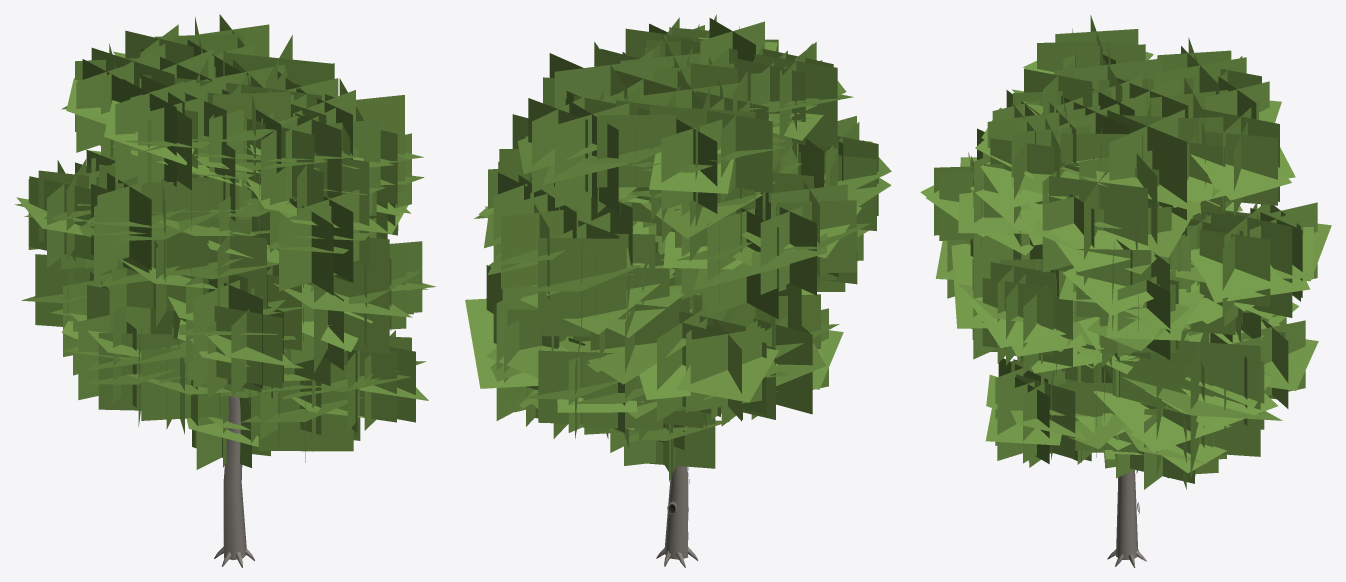
The model's file is tilleul_1_f3_jeu.glb.
3 views of the same model, side by side, from view 1: azimuth 30°, elevation 25°; view 2: azimuth 150°, elevation 25°; view 3: azimuth 270°, elevation 25° (orthographic). The views are drawn at different scales.
Parts seen in each view (by area): view 1: Tilleul_T1_f3_Leger; view 2: Tilleul_T1_f3_Leger; view 3: Tilleul_T1_f3_Leger.
Part boxes in pixels (x1=…): Tilleul_T1_f3_Leger: x1=15, y1=14, x2=436, y2=567; Tilleul_T1_f3_Leger: x1=465, y1=14, x2=891, y2=567; Tilleul_T1_f3_Leger: x1=920, y1=15, x2=1331, y2=567.
Size of the model in its own units: 5.17 by 6.66 by 5.15.
